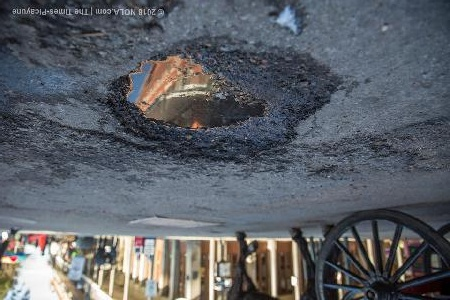pothole: (102, 36, 347, 167)
